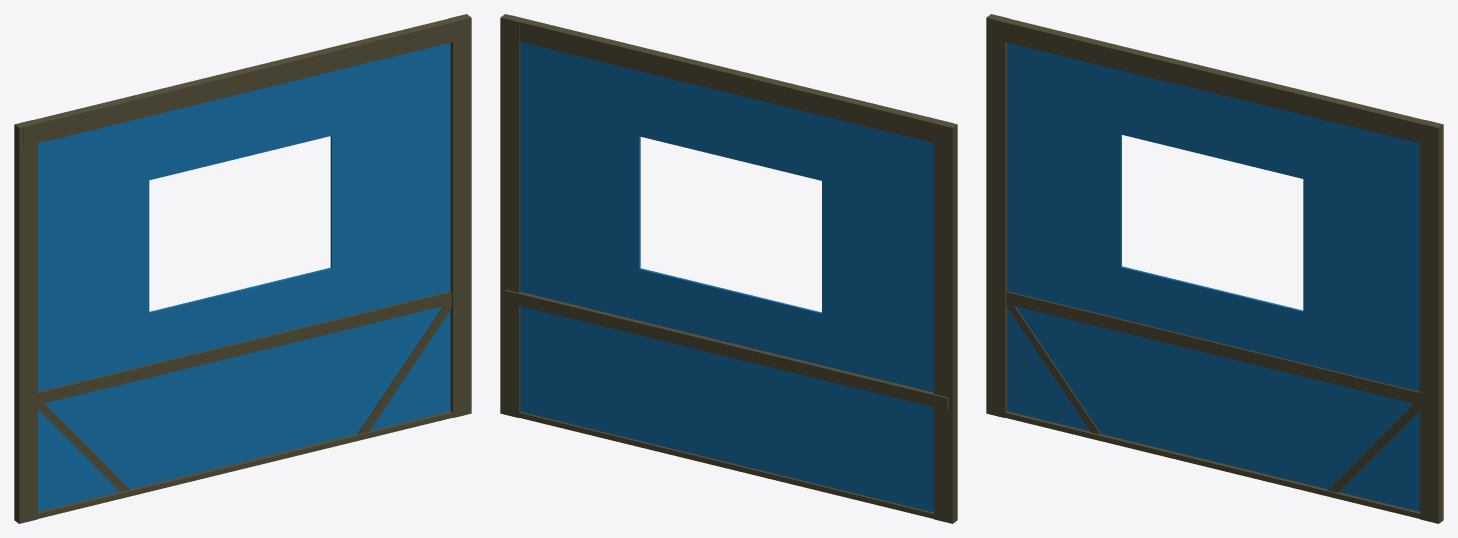
The model's file is wall 2 side.fbx.
3 views of the same model, side by side, from view 1: azimuth 30°, elevation 25°; view 2: azimuth 150°, elevation 25°; view 3: azimuth 330°, elevation 25° (orthographic).
Visible parts, largest first — view 1: wall side, merge beam014, merge beam013, merge beam012, merge beam016, merge beam015, merge beam018, merge beam017; view 2: wall side, merge beam014, merge beam013, merge beam012, merge beam016, merge beam015; view 3: wall side, merge beam014, merge beam012, merge beam013, merge beam016, merge beam015, merge beam017, merge beam018.
Boxes of the visible parts, bbox=[...] form: wall side: bbox=[38, 43, 450, 511]; merge beam014: bbox=[23, 19, 465, 146]; merge beam013: bbox=[14, 120, 37, 523]; merge beam012: bbox=[448, 14, 471, 417]; merge beam016: bbox=[38, 291, 451, 404]; merge beam015: bbox=[23, 410, 465, 522]; merge beam018: bbox=[357, 296, 451, 434]; merge beam017: bbox=[38, 403, 129, 491]; wall side: bbox=[520, 42, 933, 512]; merge beam014: bbox=[511, 15, 951, 142]; merge beam013: bbox=[934, 120, 957, 523]; merge beam012: bbox=[500, 14, 523, 417]; merge beam016: bbox=[505, 289, 948, 410]; merge beam015: bbox=[507, 410, 948, 522]; wall side: bbox=[1007, 43, 1419, 511]; merge beam014: bbox=[990, 19, 1432, 146]; merge beam012: bbox=[1420, 120, 1443, 523]; merge beam013: bbox=[986, 14, 1009, 417]; merge beam016: bbox=[1006, 291, 1419, 403]; merge beam015: bbox=[991, 409, 1419, 518]; merge beam017: bbox=[1006, 304, 1100, 433]; merge beam018: bbox=[1328, 398, 1419, 492].
Size of the model in its own units: 366 by 306 by 8.89.
